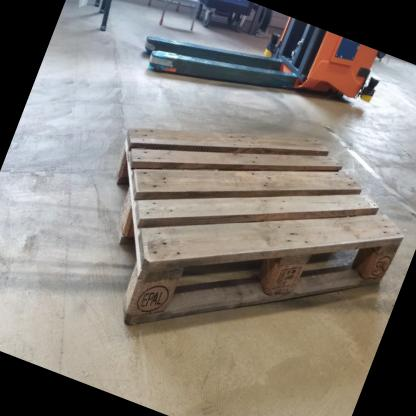BoxFace: (112, 122, 409, 337)
